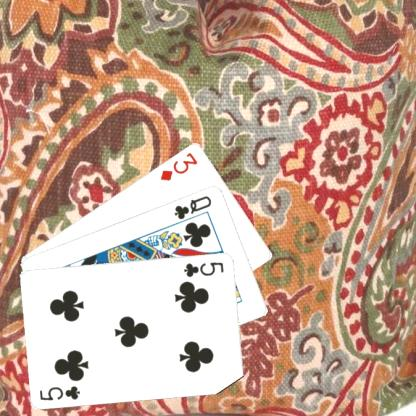3D: (158, 149, 199, 182)
5C: (37, 382, 82, 402), (182, 258, 226, 278)
QC: (171, 192, 213, 221)
